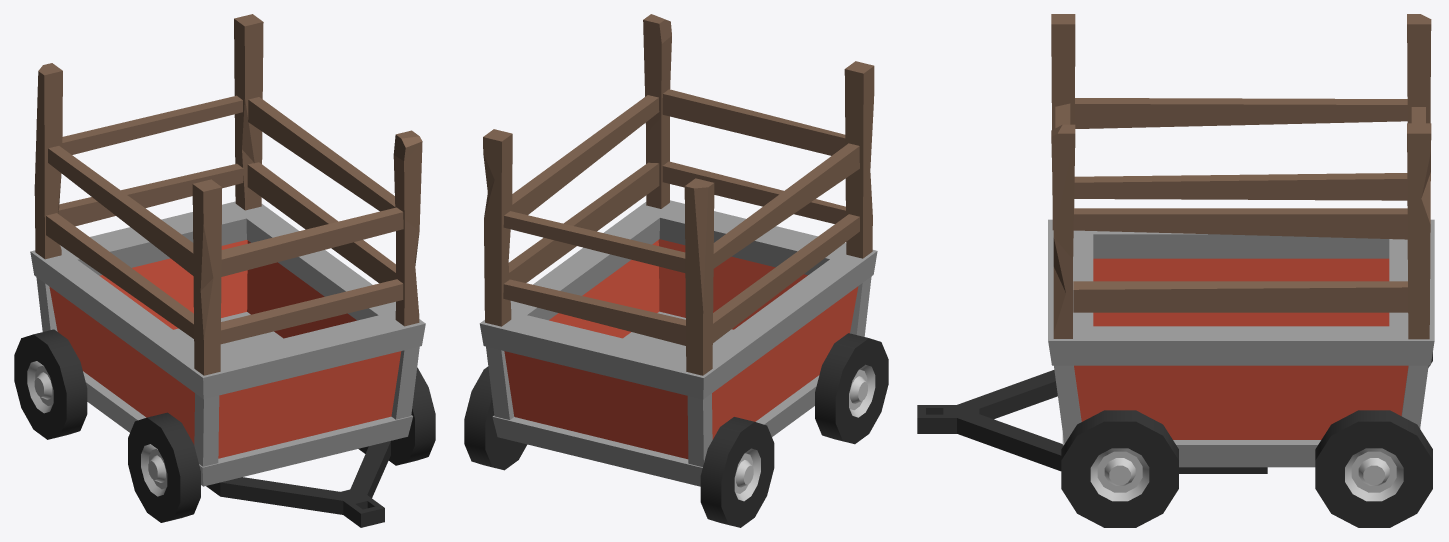
File: Trailer_3.fbx
3 views of the same model, side by side, from view 1: azimuth 30°, elevation 25°; view 2: azimuth 150°, elevation 25°; view 3: azimuth 270°, elevation 25° (orthographic). The views are drawn at different scales.
Parts seen in each view (by area): view 1: Trailer_3; view 2: Trailer_3; view 3: Trailer_3.
Part boxes in pixels (<box>): Trailer_3: <box>14,14,435,527</box>; Trailer_3: <box>464,14,888,527</box>; Trailer_3: <box>917,14,1434,527</box>.
Size of the model in its own units: 61.69 by 78.74 by 95.92.
